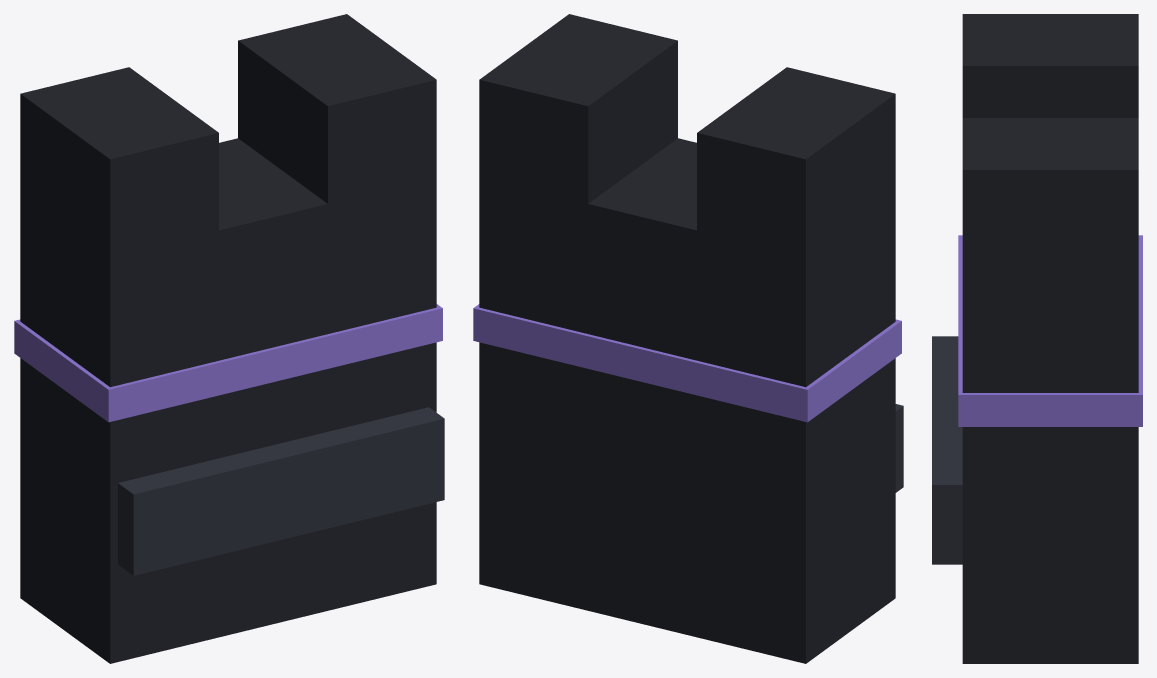
File: vest_lv3.glb
3 renders of one model, left to right at view 1: azimuth 30°, elevation 25°; view 2: azimuth 150°, elevation 25°; view 3: azimuth 270°, elevation 25°, orthographic. The views are drawn at different scales.
Parts seen in each view (by area): view 1: model; view 2: model; view 3: model.
Part boxes in pixels (x1=…): model: x1=14, y1=14, x2=444, y2=663; model: x1=473, y1=14, x2=903, y2=663; model: x1=932, y1=14, x2=1142, y2=663.
Size of the model in its own units: 0.43 by 0.62 by 0.24.
